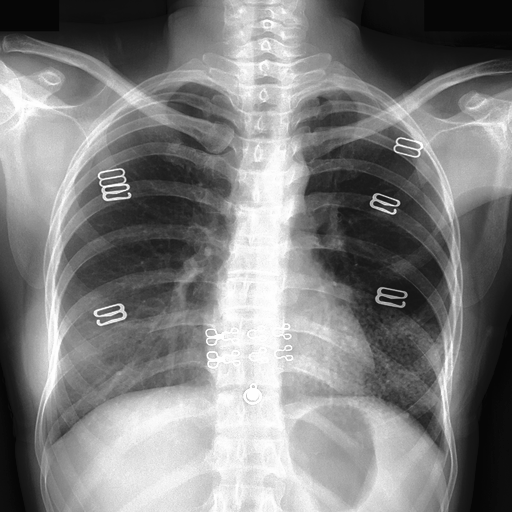Calcification: (290, 87, 360, 145), (142, 80, 189, 91)
Cardiomegaly: (289, 286, 456, 422)
Other lesion: (309, 293, 444, 410)
Pleural thickening: (309, 293, 444, 410)
Pneumothorax: (381, 253, 420, 260)
